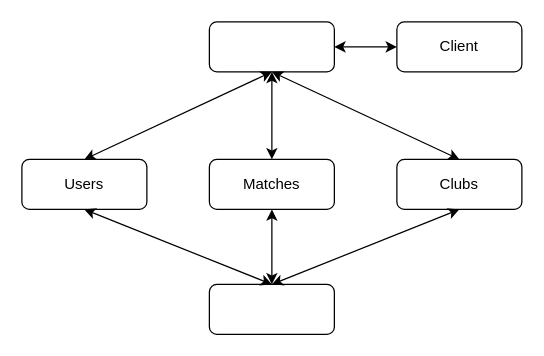
Image size: 544x356. Some labels were removed from this diagram. Here are the shapes that lost their labels. From the top down, the box of each, then its label:
(208, 21, 334, 72): Nginx
(208, 283, 334, 334): Database
